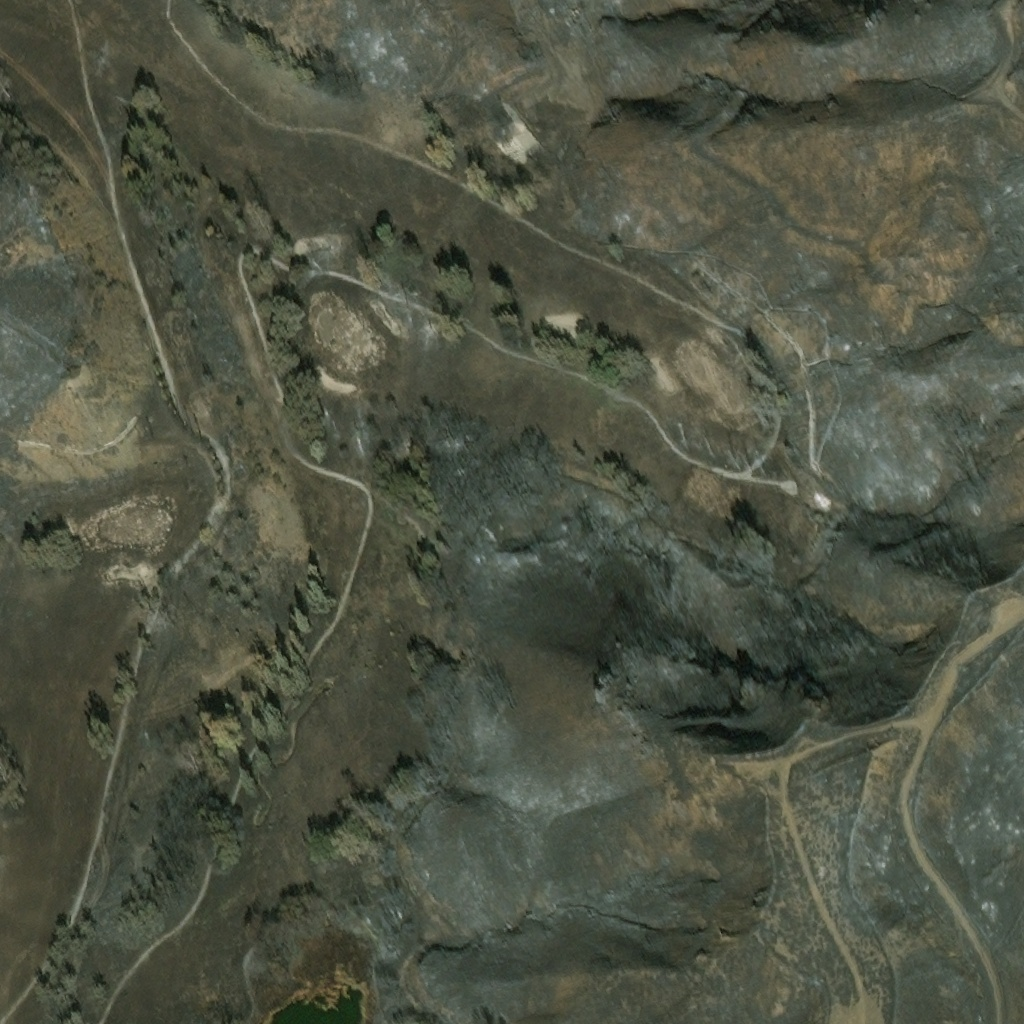3 destroyed: (489, 99, 536, 148)
